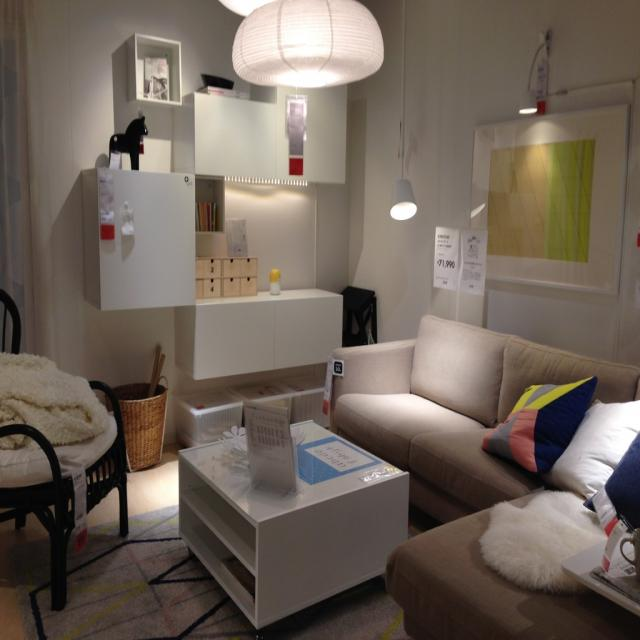chair: (1, 425, 76, 620), (0, 288, 22, 354)
desk: (177, 473, 409, 634)
